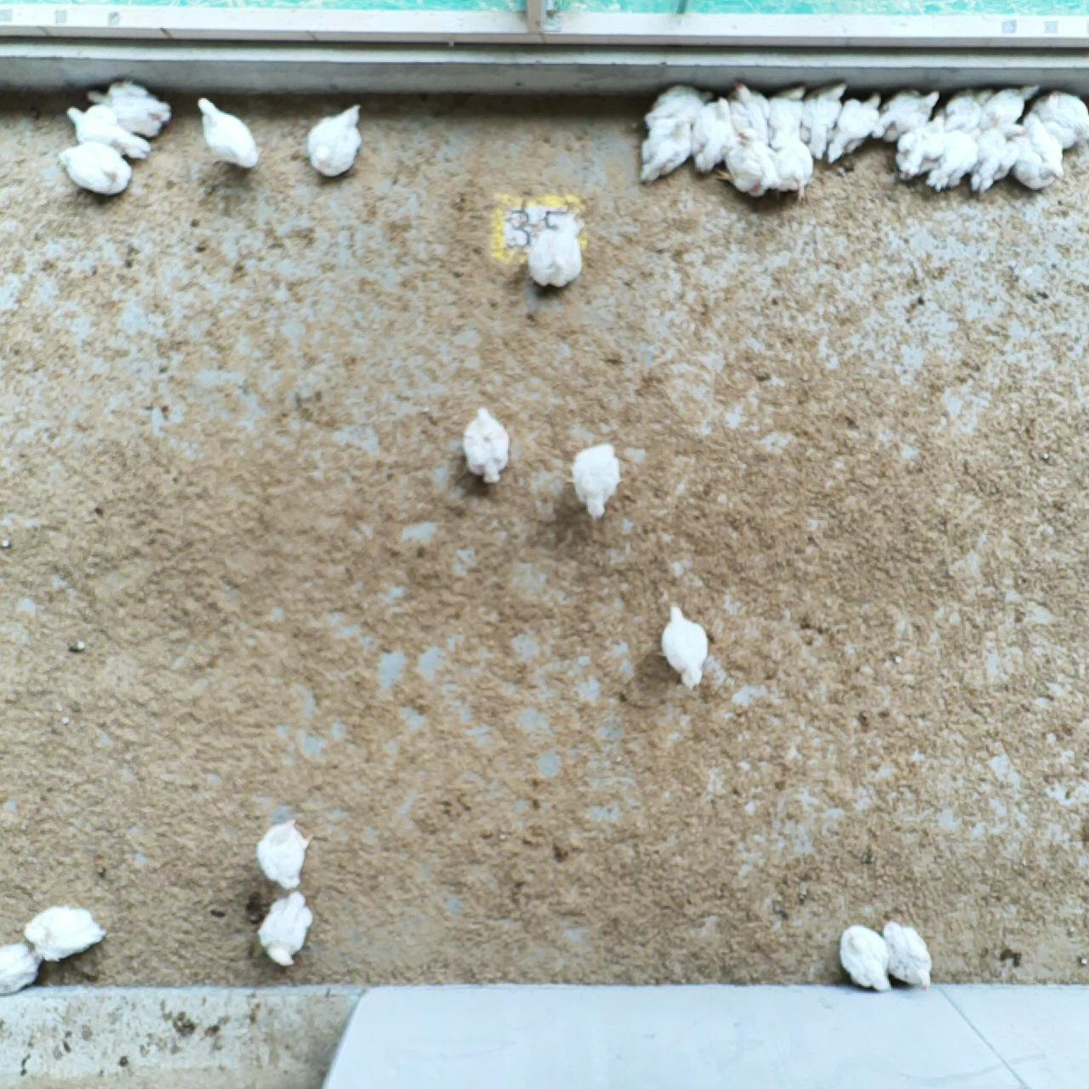chicken: (653, 596, 721, 700), (296, 100, 378, 182), (81, 75, 173, 145), (191, 93, 266, 178), (1006, 117, 1084, 196), (63, 98, 148, 165), (251, 818, 319, 898), (871, 83, 949, 151), (452, 405, 515, 486), (54, 135, 133, 198), (22, 913, 111, 968), (567, 446, 632, 517), (254, 892, 313, 968), (932, 83, 995, 153), (524, 218, 585, 290), (892, 111, 954, 181), (634, 111, 698, 178), (835, 923, 897, 989), (722, 77, 775, 153), (693, 97, 744, 174), (829, 90, 880, 167), (966, 119, 1016, 196), (723, 136, 783, 200), (1030, 88, 1089, 153), (802, 82, 847, 164), (876, 917, 935, 979), (756, 77, 807, 145), (766, 134, 818, 199), (921, 124, 975, 185), (641, 77, 705, 128), (979, 86, 1029, 144), (1, 940, 37, 998)
